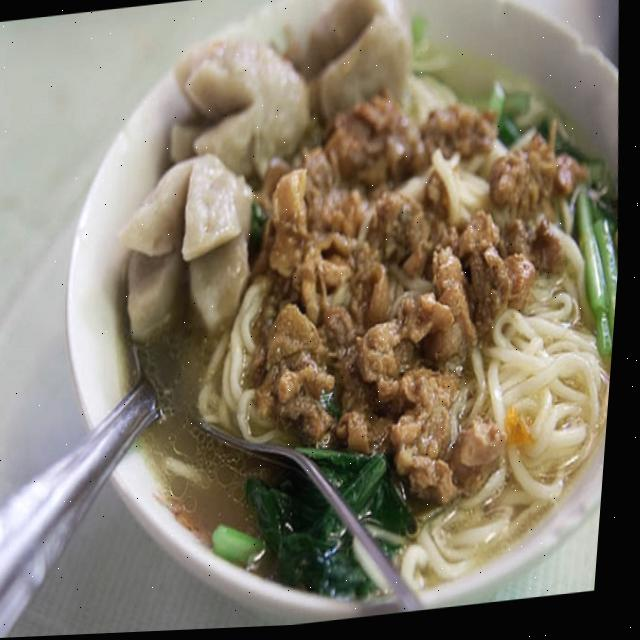面条主食: (14, 0, 640, 622)
